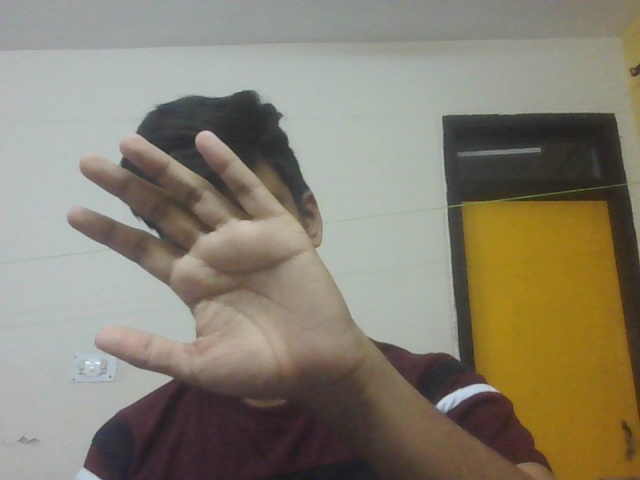hello: (56, 124, 381, 422)
